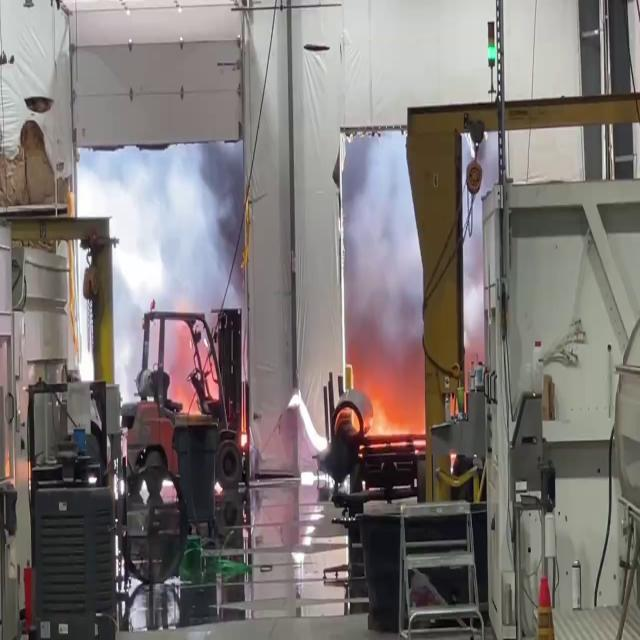Fire: (348, 367, 419, 448)
Smoke: (88, 134, 220, 386), (332, 124, 424, 383)
